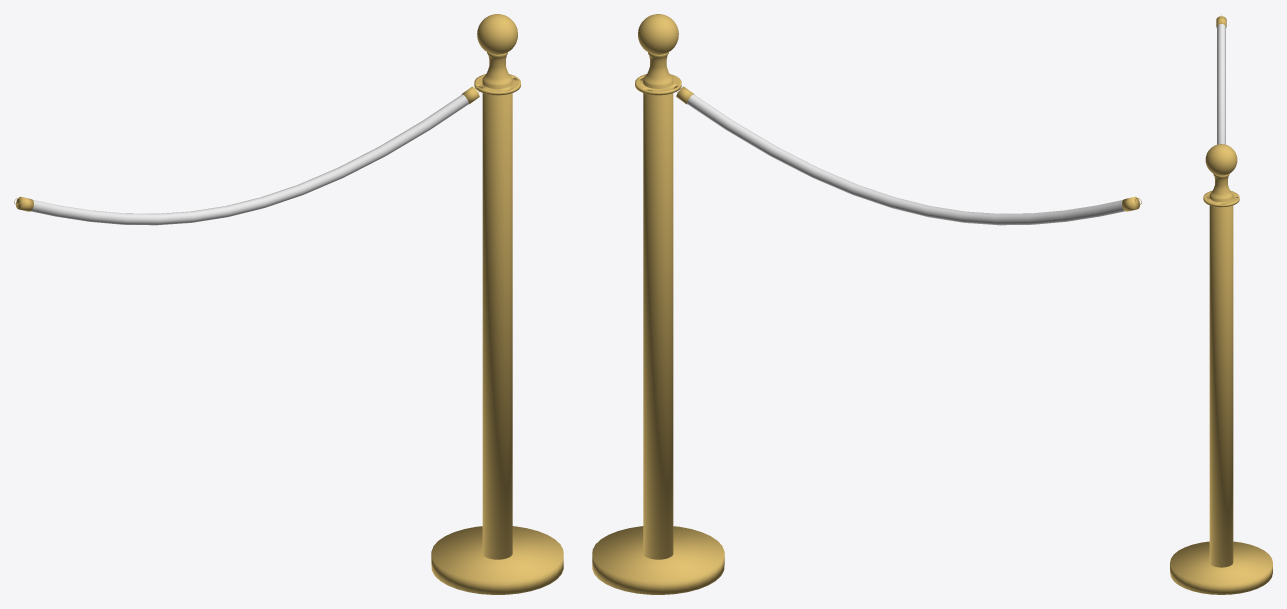
File: VelvetFence.fbx
3 views of the same model, side by side, from view 1: azimuth 30°, elevation 25°; view 2: azimuth 150°, elevation 25°; view 3: azimuth 270°, elevation 25° (orthographic). The views are drawn at different scales.
Parts seen in each view (by area): view 1: VelvetFencePost, VelvetFenceRope; view 2: VelvetFencePost, VelvetFenceRope; view 3: VelvetFencePost, VelvetFenceRope.
Boxes of the visible parts, x1,y1,x2,y2 form: VelvetFencePost: (431, 14, 563, 594); VelvetFenceRope: (14, 85, 481, 225); VelvetFencePost: (592, 14, 724, 594); VelvetFenceRope: (674, 85, 1141, 225); VelvetFencePost: (1170, 144, 1272, 594); VelvetFenceRope: (1216, 14, 1226, 144).
Bounding box in the file's own units: 330 × 321 × 70.
